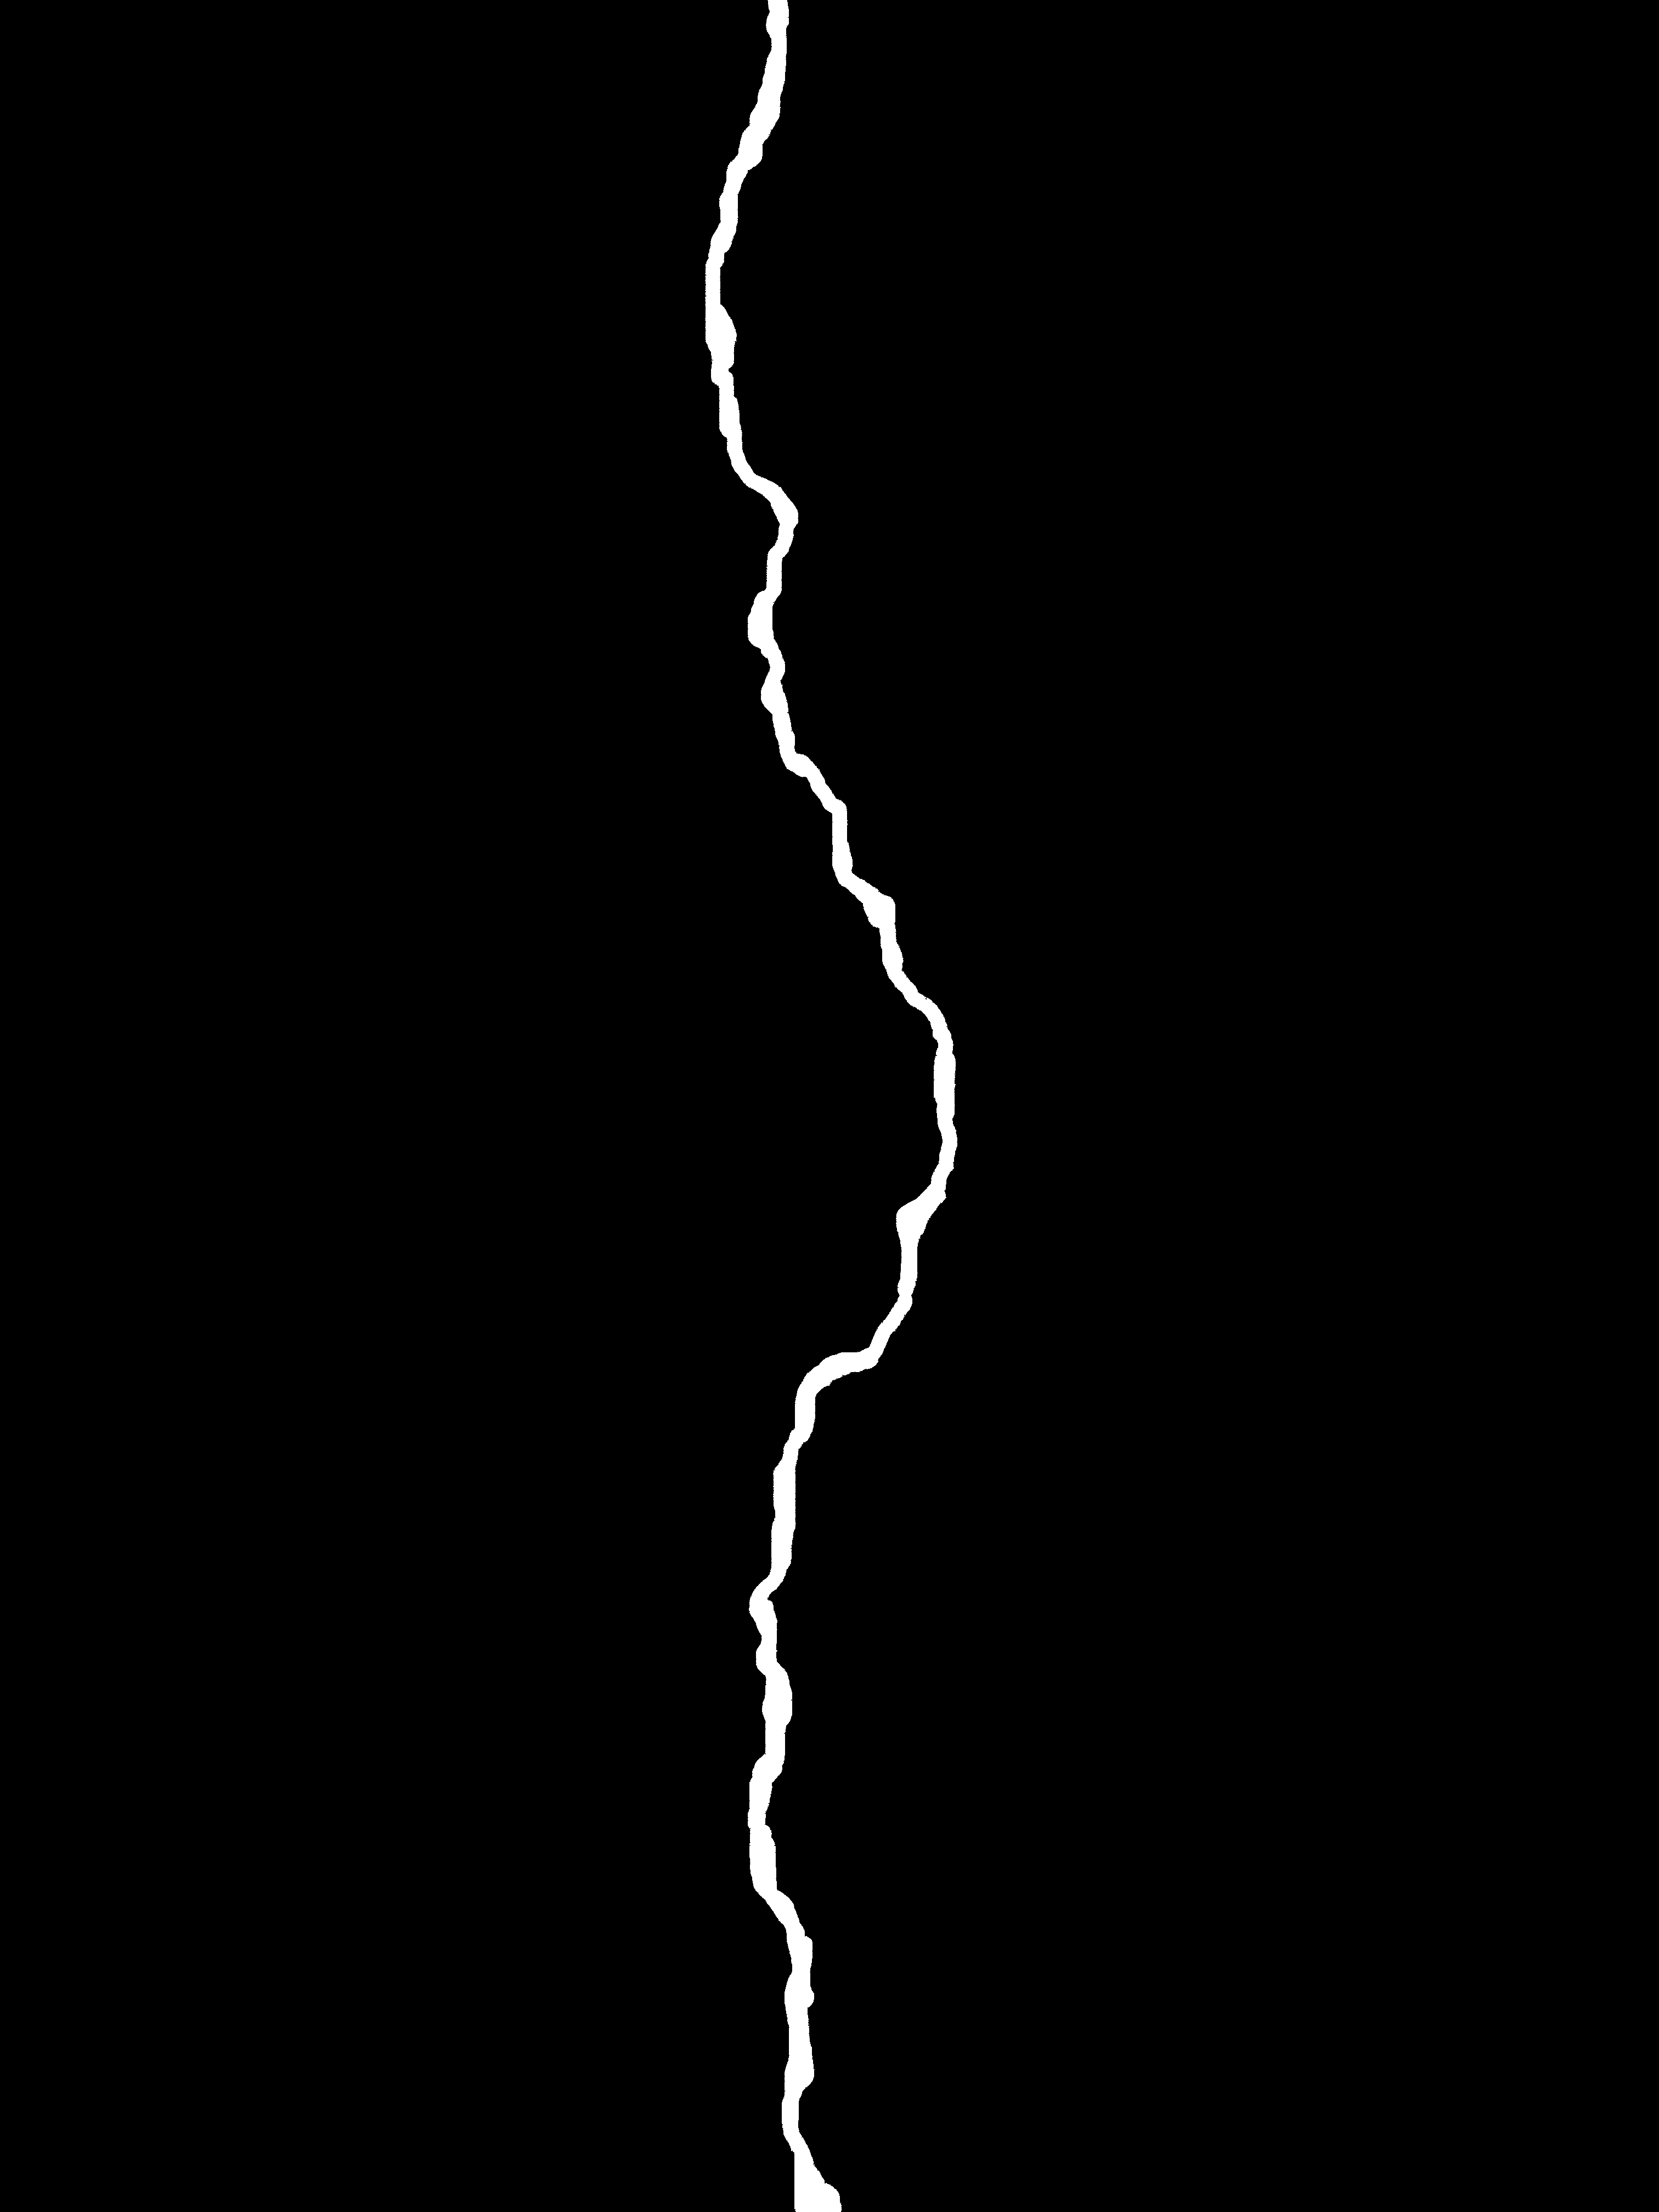Crack: (666, 0, 979, 2212)
